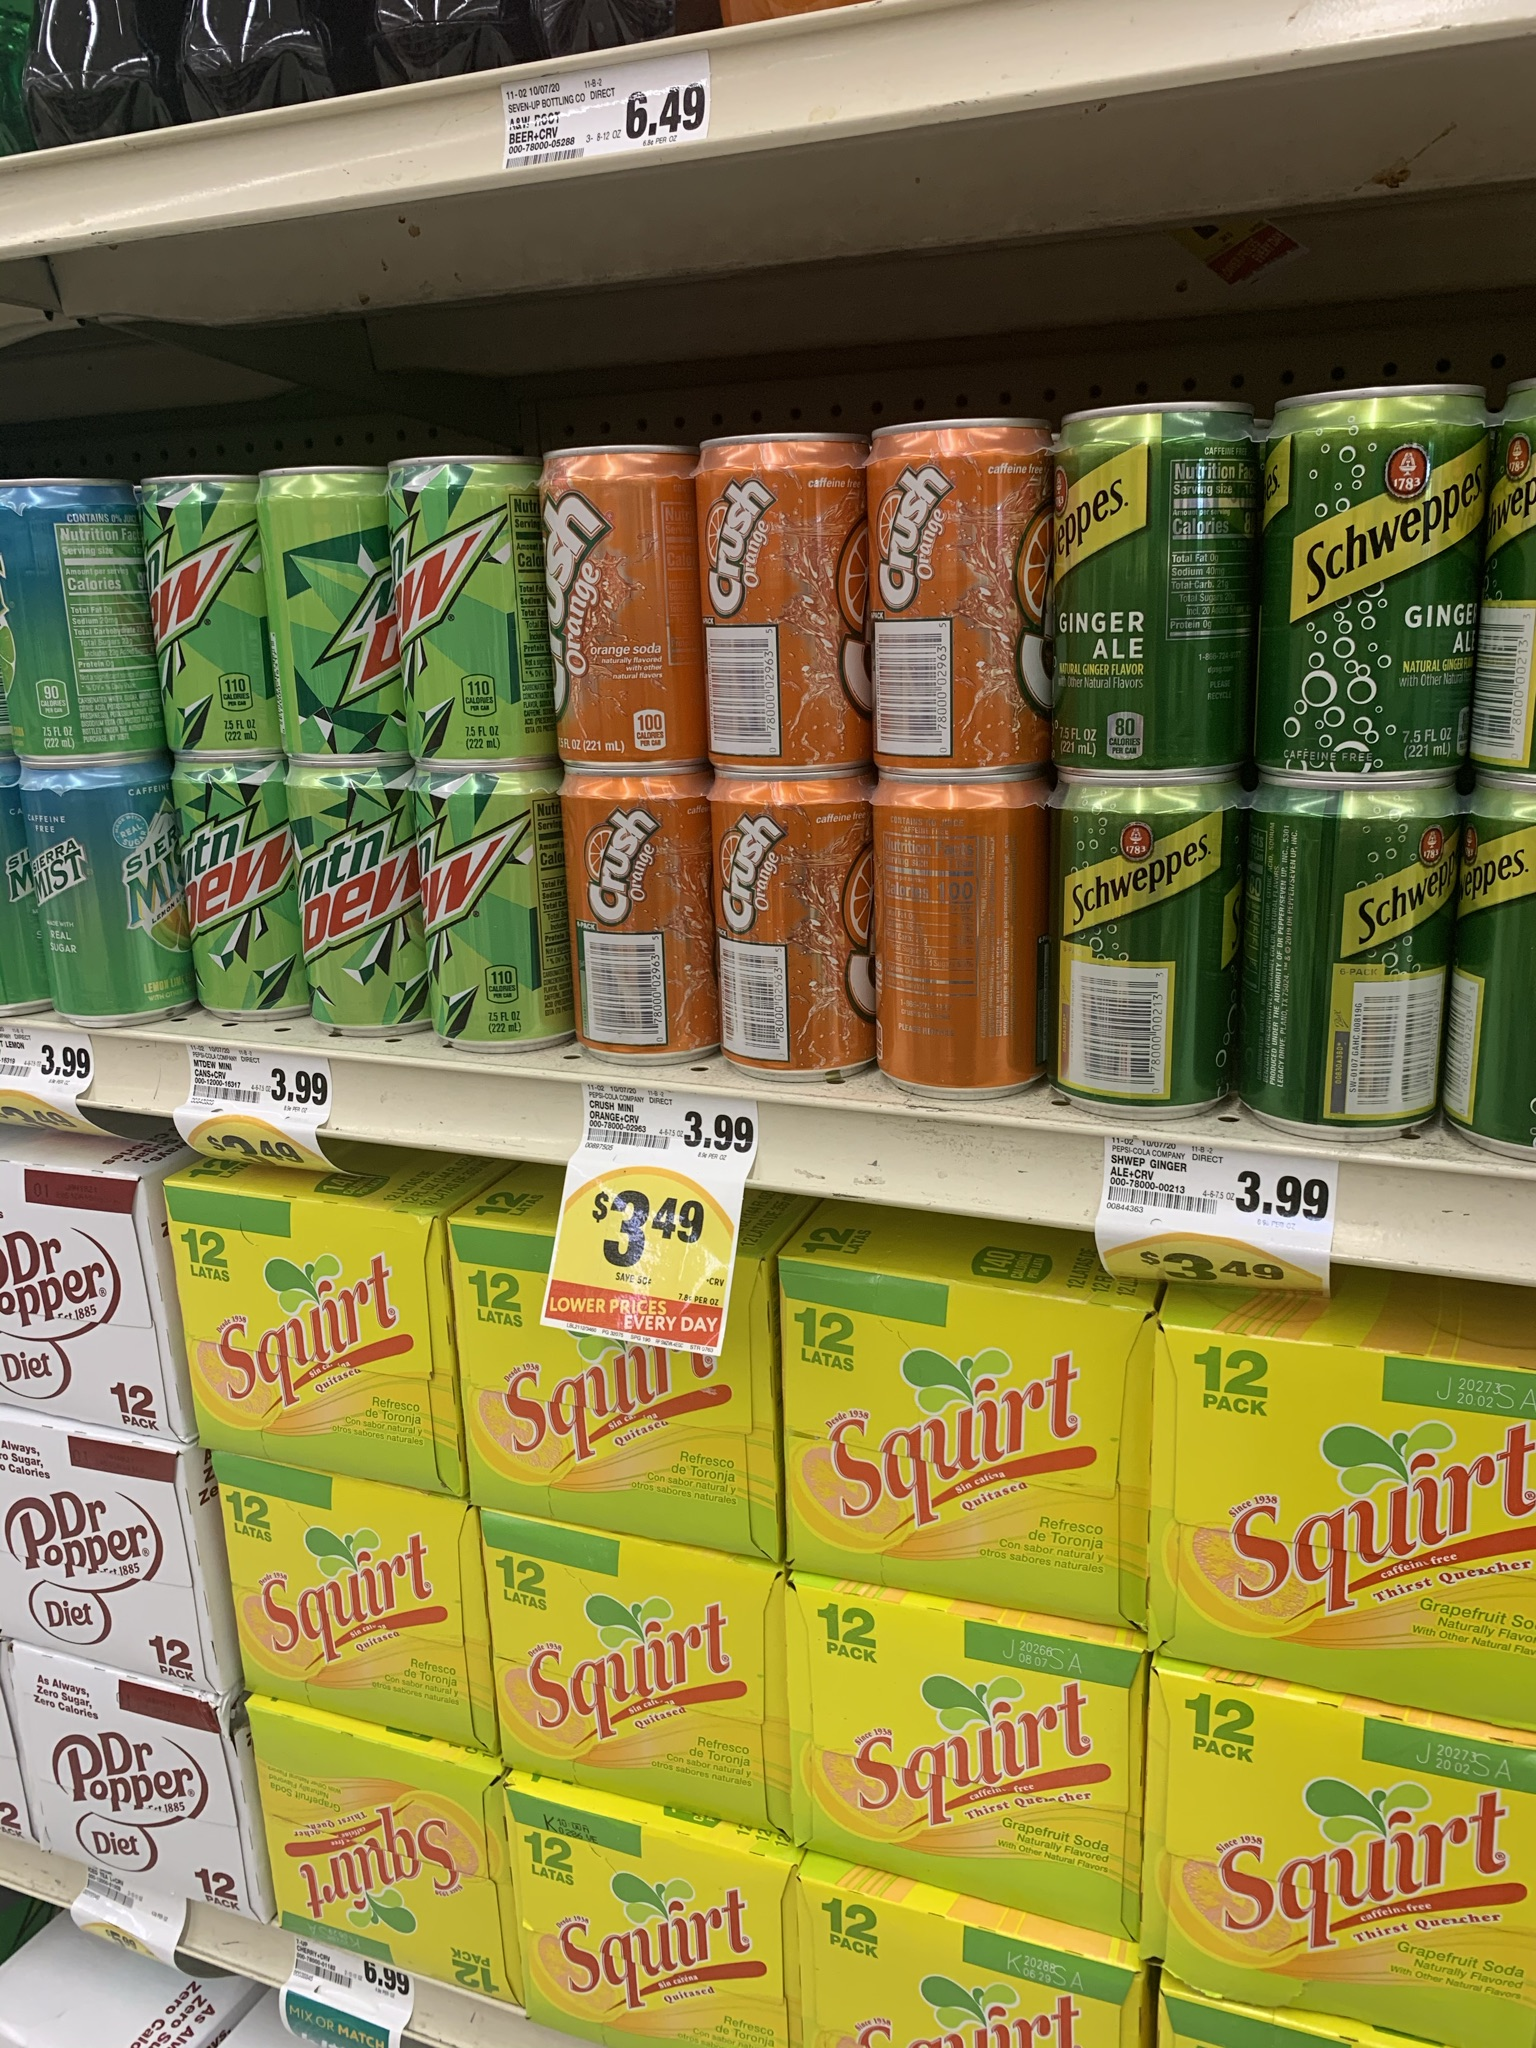box: (1179, 1366, 1534, 1653), (487, 1522, 783, 1830), (1167, 1740, 1536, 1971), (795, 1295, 1125, 1553), (497, 1788, 797, 2048), (800, 1651, 1121, 1867), (186, 1213, 424, 1453), (231, 1501, 458, 1692), (274, 1775, 484, 1935), (2, 1472, 190, 1638), (31, 1716, 226, 1850)
can: (1286, 413, 1452, 761), (1079, 434, 1241, 756), (1267, 801, 1431, 1118), (879, 443, 1033, 764), (712, 453, 858, 766), (1073, 801, 1220, 1109), (879, 797, 1028, 1089), (394, 472, 536, 755), (552, 464, 686, 751), (724, 787, 857, 1072), (419, 780, 565, 1034), (566, 787, 700, 1053), (10, 485, 139, 748), (48, 769, 174, 1013), (271, 489, 386, 748), (298, 784, 411, 1026), (158, 493, 258, 747), (189, 776, 292, 1006)
